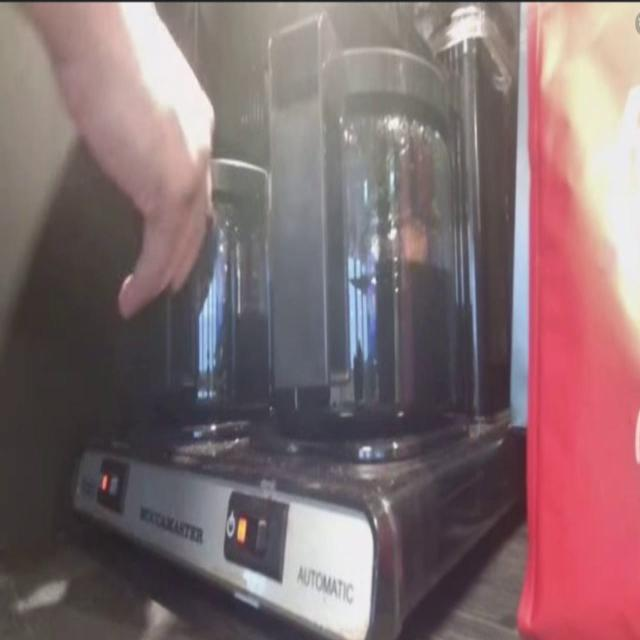coffee: (259, 19, 480, 444), (94, 156, 279, 442)
